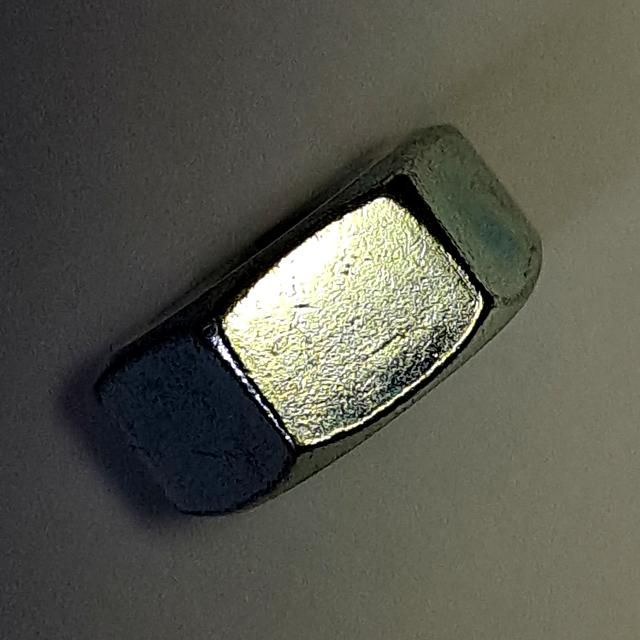Side_Excellent: (82, 105, 556, 538)
